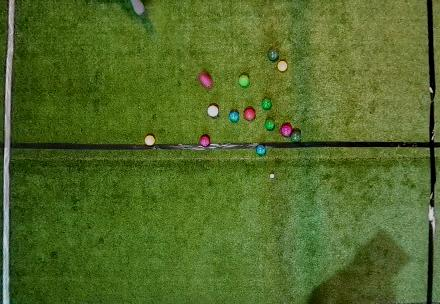blue: (255, 144, 267, 156), (229, 111, 240, 122)
green: (238, 74, 250, 88), (290, 130, 302, 143), (267, 49, 278, 61), (261, 98, 272, 110), (264, 118, 275, 130)
red: (199, 72, 212, 88), (243, 108, 256, 121), (207, 105, 219, 117), (281, 124, 292, 137), (200, 135, 210, 147)
vline: (0, 0, 19, 303), (425, 0, 439, 303)
white: (270, 174, 274, 178)
yellow: (145, 135, 156, 146), (277, 61, 287, 71)
